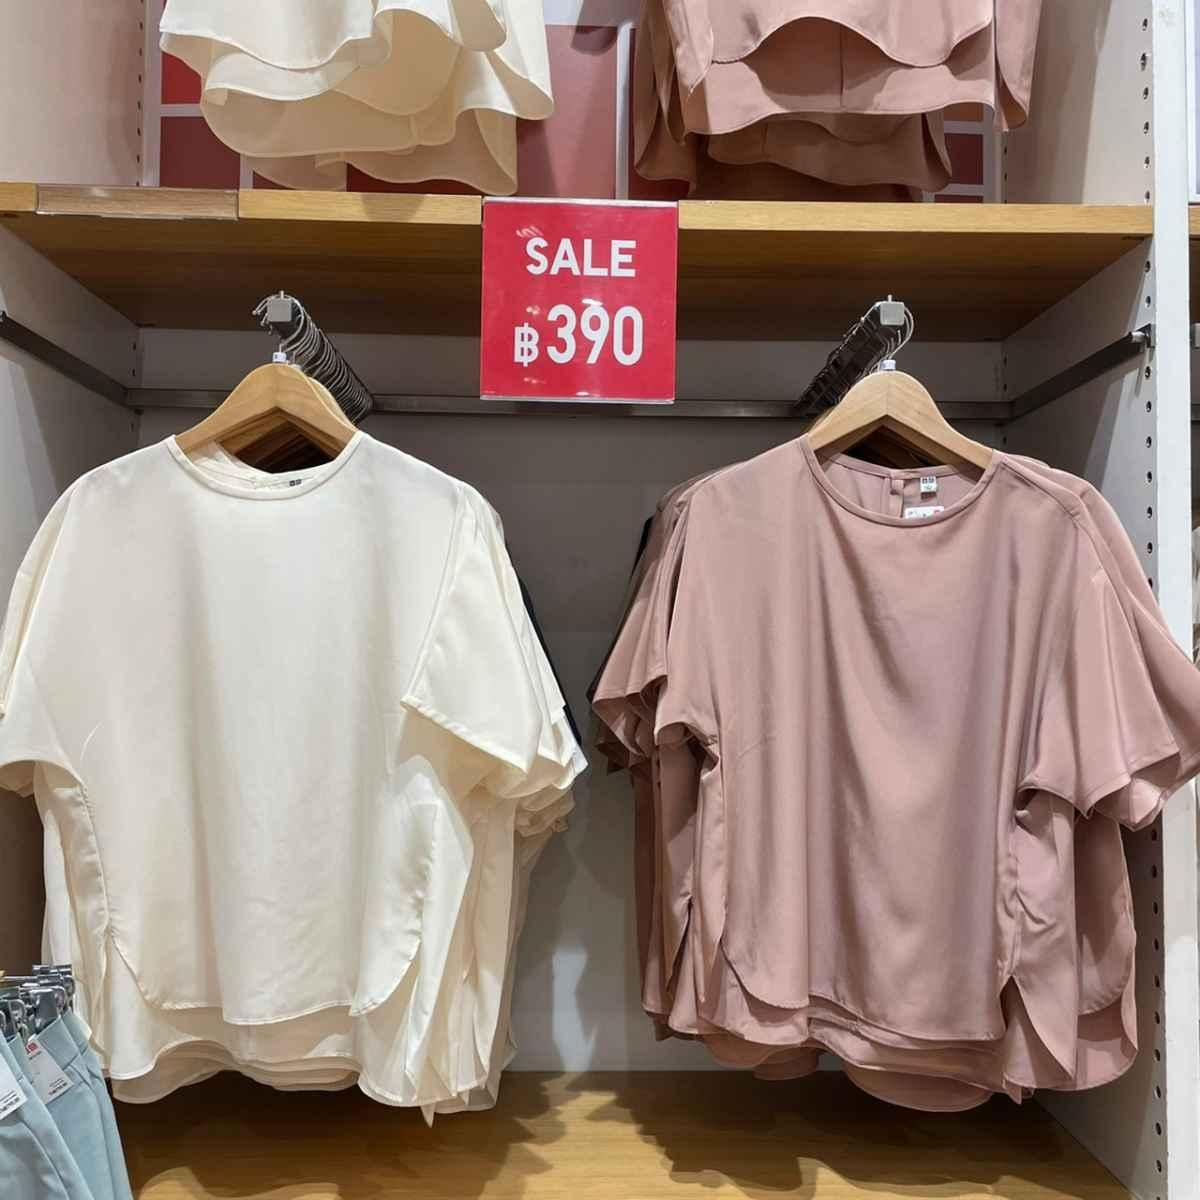Tshirt: (0, 425, 549, 1053), (595, 443, 1165, 1046)
